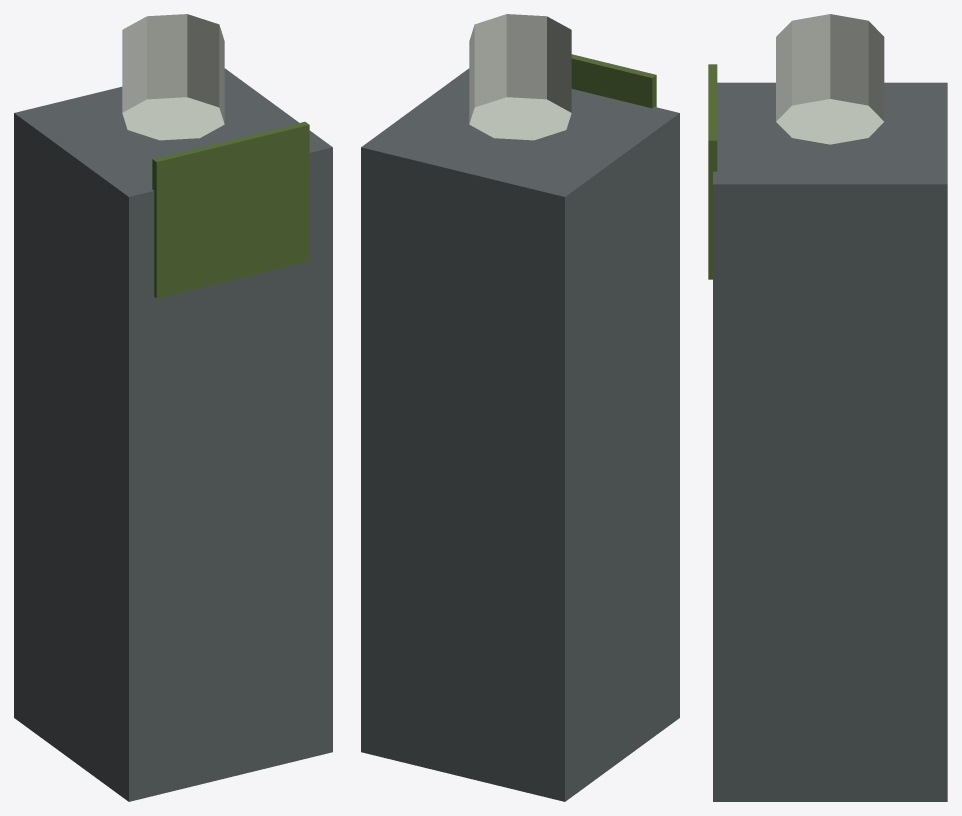
Rendered from card_spinner.glb.
3 views of the same model, side by side, from view 1: azimuth 30°, elevation 25°; view 2: azimuth 150°, elevation 25°; view 3: azimuth 270°, elevation 25° (orthographic). The views are drawn at different scales.
Size of the model in its own units: 0.48 by 1.57 by 0.4771.
1 material, 1 textured.
